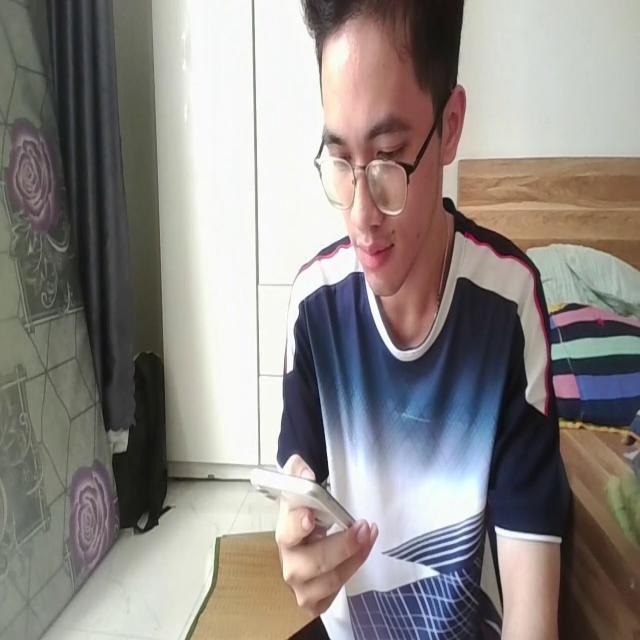phone: (247, 456, 364, 532)
student: (276, 0, 562, 640)
